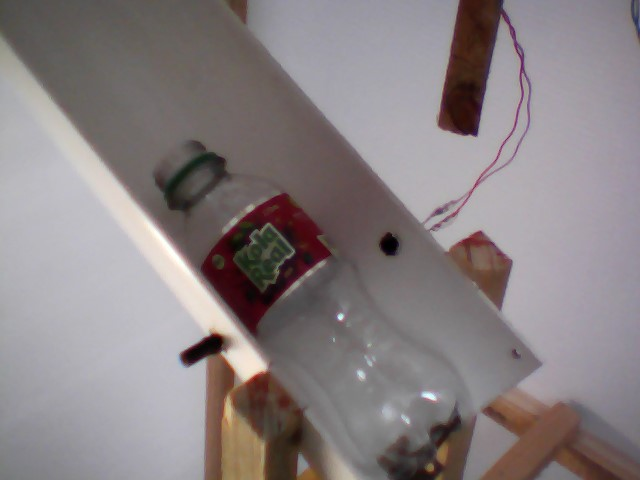plastico: (142, 132, 477, 480)
